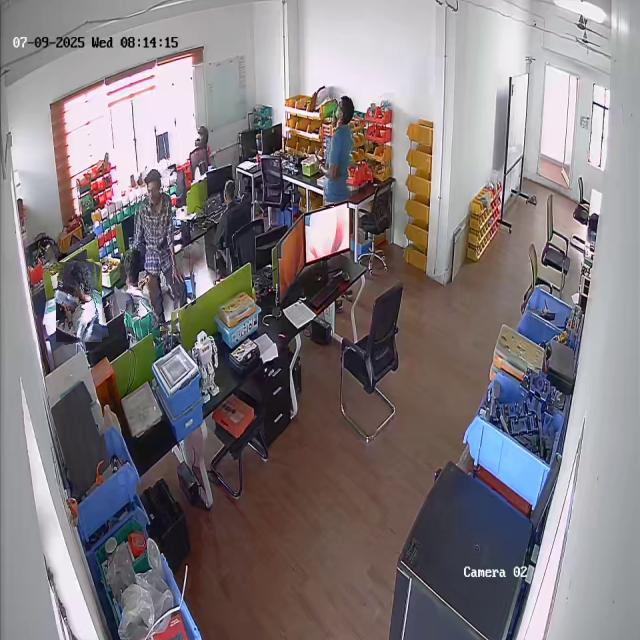person: (128, 167, 188, 331), (311, 94, 359, 208), (53, 260, 105, 344), (208, 178, 244, 247)
